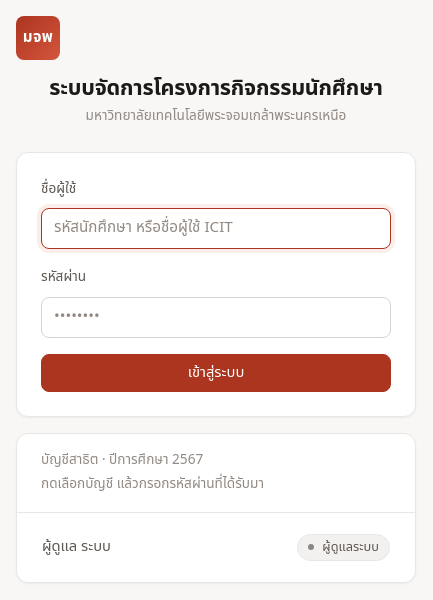
Scenario: fills only the username for a shared-password deployment, leaving the password to the person
Click the button "ผู้ดูแล ระบบ ผู้ดูแลระบบ": (76, 547) [29,525,403,570]
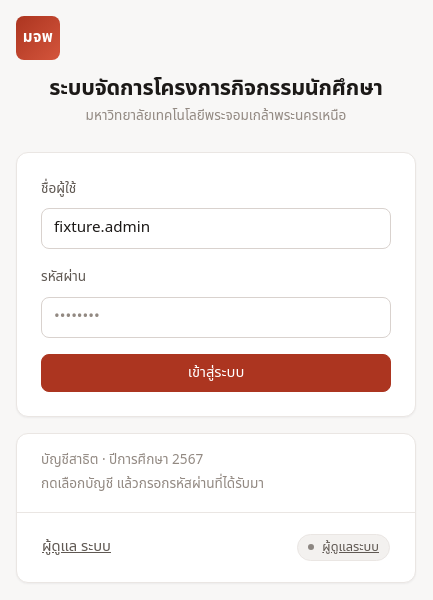
Expected: the password field labelled "รหัสผ่าน" is empty, [41,297,391,338]
Now the field labelled "ชื่อผู้ใช้" holds "fixture.admin", box [41,208,391,249]
